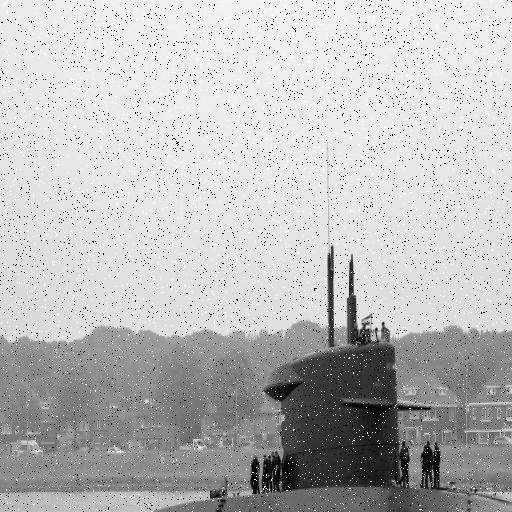submarine: (85, 235, 512, 512)
